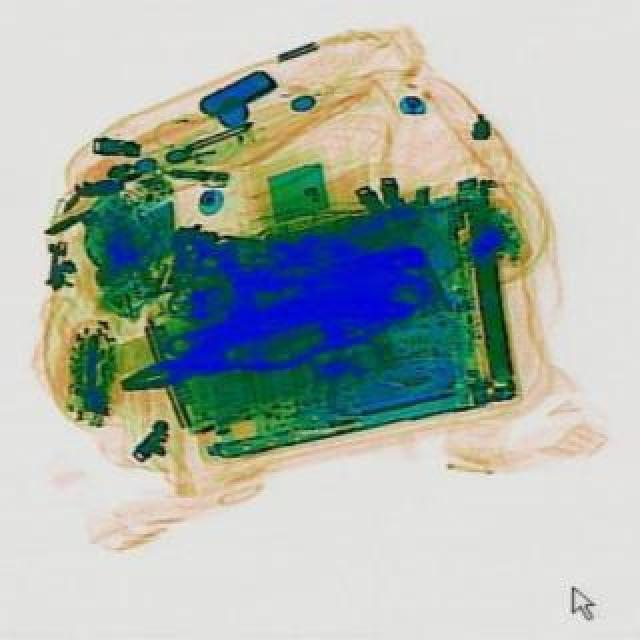wrench: (108, 286, 368, 414)
